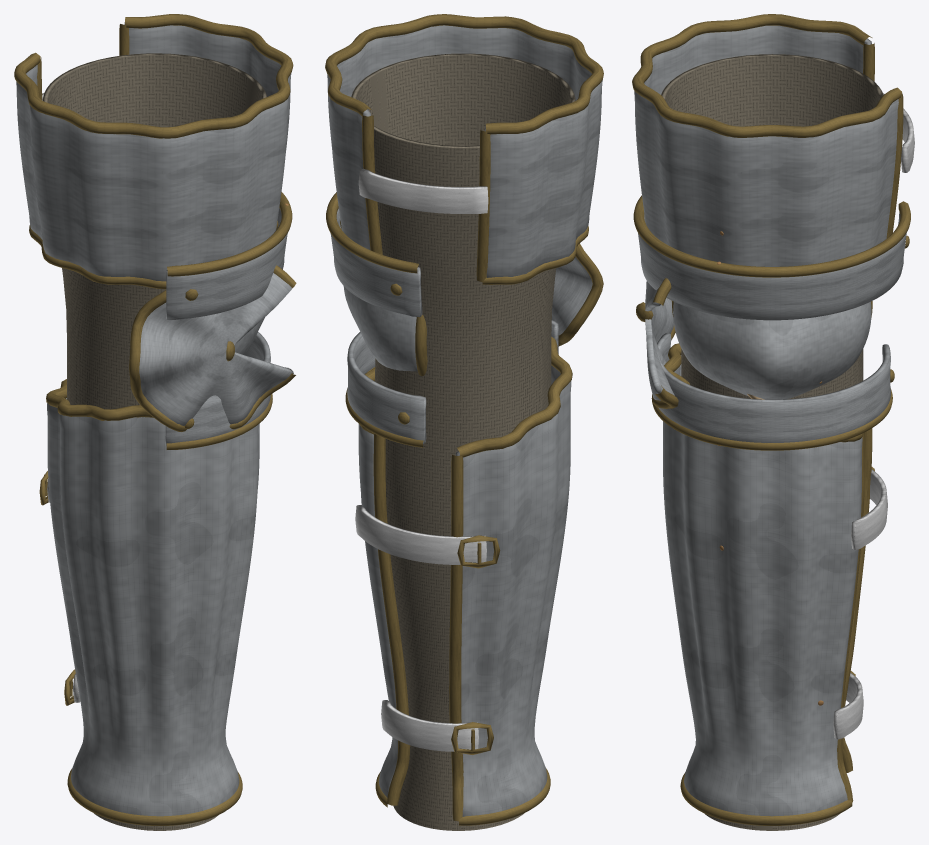
The picture shows the model from 3 angles, left to right: view 1: azimuth 30°, elevation 25°; view 2: azimuth 150°, elevation 25°; view 3: azimuth 270°, elevation 25°; orthographic projection.
Visible parts, largest first — view 1: polished fluted plate, quilted linen lining, aged alloy edge; view 2: polished fluted plate, quilted linen lining, aged alloy edge, oiled strap leather; view 3: polished fluted plate, aged alloy edge, quilted linen lining, oiled strap leather.
Boxes of the visible parts, x1=… form: polished fluted plate: x1=16, y1=22, x2=293, y2=816; quilted linen lining: x1=42, y1=53, x2=266, y2=830; aged alloy edge: x1=14, y1=14, x2=296, y2=825; polished fluted plate: x1=327, y1=25, x2=602, y2=816; quilted linen lining: x1=351, y1=53, x2=575, y2=830; aged alloy edge: x1=325, y1=14, x2=603, y2=825; oiled strap leather: x1=355, y1=168, x2=488, y2=751; polished fluted plate: x1=634, y1=25, x2=906, y2=816; aged alloy edge: x1=632, y1=14, x2=910, y2=825; quilted linen lining: x1=661, y1=54, x2=883, y2=830; oiled strap leather: x1=833, y1=93, x2=914, y2=739.
Size of the model in its own units: 0.153 by 0.4439 by 0.1557.
6 materials, 4 textured.
